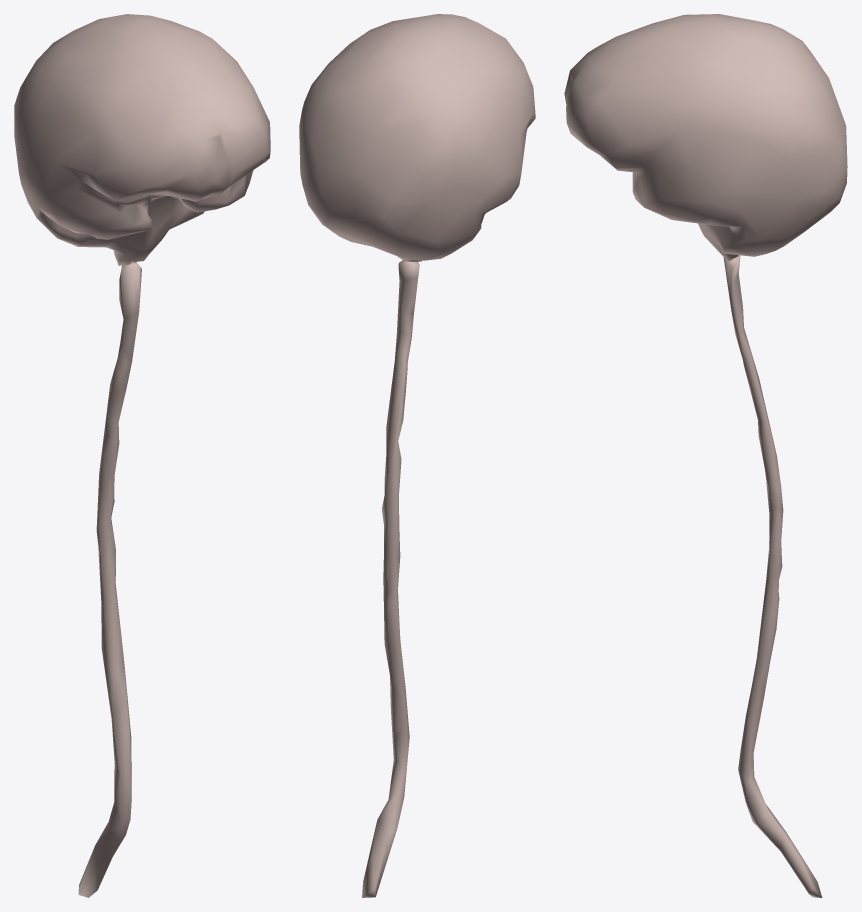
The model's file is pediatric_child_5y_female.nervous.LOD2.glb.
3 views of the same model, side by side, from view 1: azimuth 30°, elevation 25°; view 2: azimuth 150°, elevation 25°; view 3: azimuth 270°, elevation 25° (orthographic). The views are drawn at different scales.
Parts seen in each view (by area): view 1: PEDIATRIC.CHILD_5Y.FEMALE.NERVOUS.BRAIN, PEDIATRIC.CHILD_5Y.FEMALE.NERVOUS.SPINAL_CORD; view 2: PEDIATRIC.CHILD_5Y.FEMALE.NERVOUS.BRAIN, PEDIATRIC.CHILD_5Y.FEMALE.NERVOUS.SPINAL_CORD; view 3: PEDIATRIC.CHILD_5Y.FEMALE.NERVOUS.BRAIN, PEDIATRIC.CHILD_5Y.FEMALE.NERVOUS.SPINAL_CORD.
Boxes of the visible parts, x1,y1,x2,y2 form: PEDIATRIC.CHILD_5Y.FEMALE.NERVOUS.BRAIN: (14, 14, 270, 265); PEDIATRIC.CHILD_5Y.FEMALE.NERVOUS.SPINAL_CORD: (78, 262, 141, 897); PEDIATRIC.CHILD_5Y.FEMALE.NERVOUS.BRAIN: (299, 14, 535, 261); PEDIATRIC.CHILD_5Y.FEMALE.NERVOUS.SPINAL_CORD: (362, 260, 419, 897); PEDIATRIC.CHILD_5Y.FEMALE.NERVOUS.BRAIN: (564, 14, 847, 260); PEDIATRIC.CHILD_5Y.FEMALE.NERVOUS.SPINAL_CORD: (723, 255, 822, 897).
Size of the model in its own units: 0.1261 by 0.5256 by 0.154.
